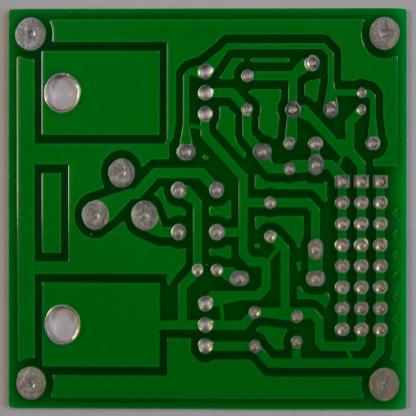short: (257, 240, 285, 265), (181, 115, 209, 138), (212, 298, 234, 327), (330, 146, 351, 172), (338, 343, 359, 369)
